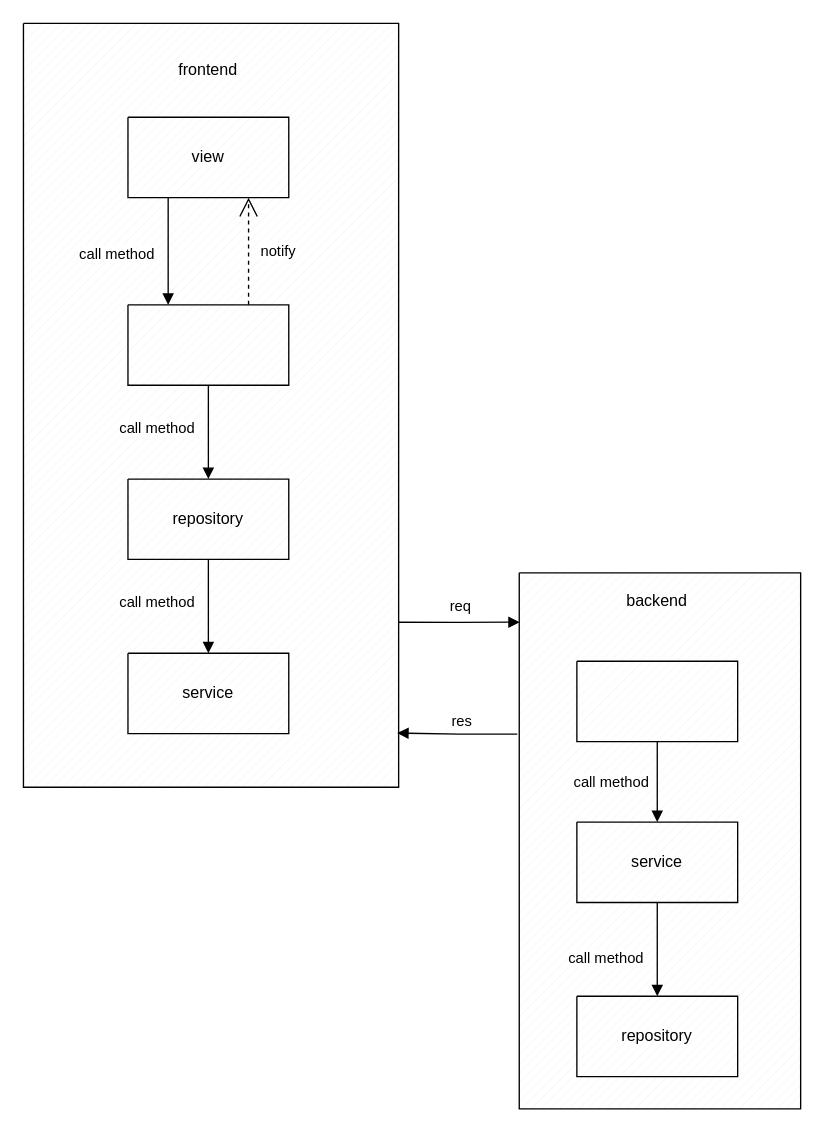
Some shapes in this 824 by 1132 pixel diagram are drawn without their labels. The centre of each missing label's shape, as x and y in pixels:
"controller" goes at point (657, 701).
"view model" goes at point (208, 344).
